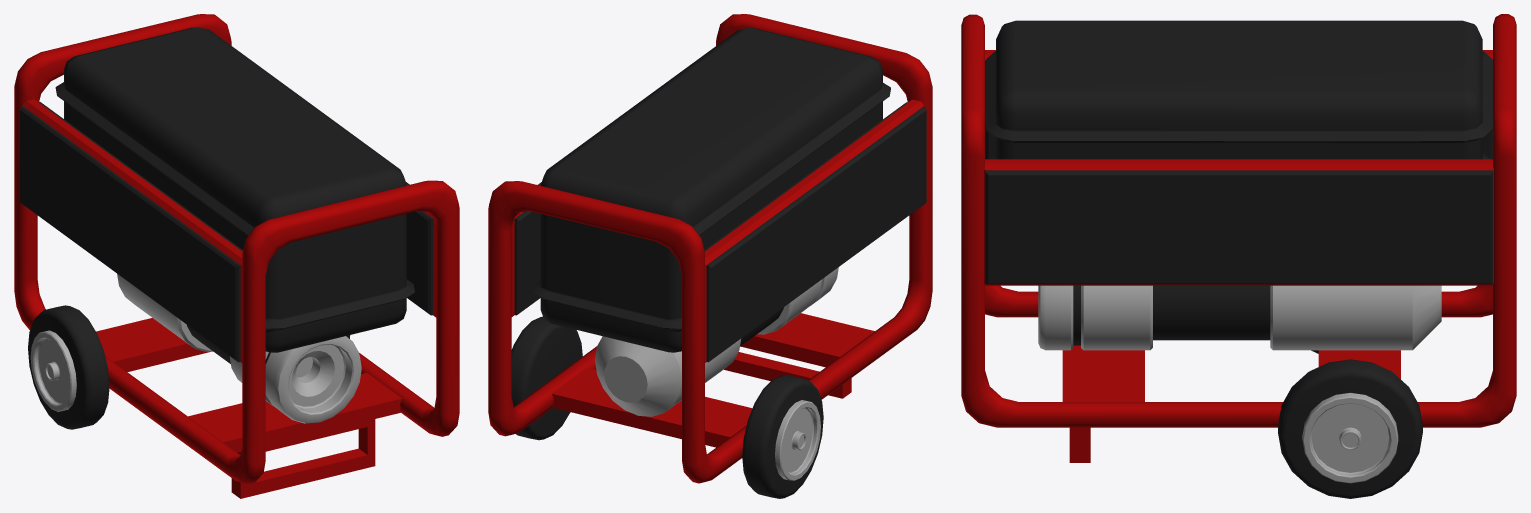
Rendered from generator.fbx.
3 renders of one model, left to right at view 1: azimuth 30°, elevation 25°; view 2: azimuth 150°, elevation 25°; view 3: azimuth 270°, elevation 25°, orthographic. The views are drawn at different scales.
Parts seen in each view (by area): view 1: pCube38; view 2: pCube38; view 3: pCube38.
Boxes of the visible parts, left/top/right/bottom form: pCube38: left=14, top=14, right=459, bottom=498; pCube38: left=488, top=14, right=932, bottom=498; pCube38: left=961, top=14, right=1516, bottom=498.
Bounding box in the file's own units: 76.35 × 82.34 × 112.
